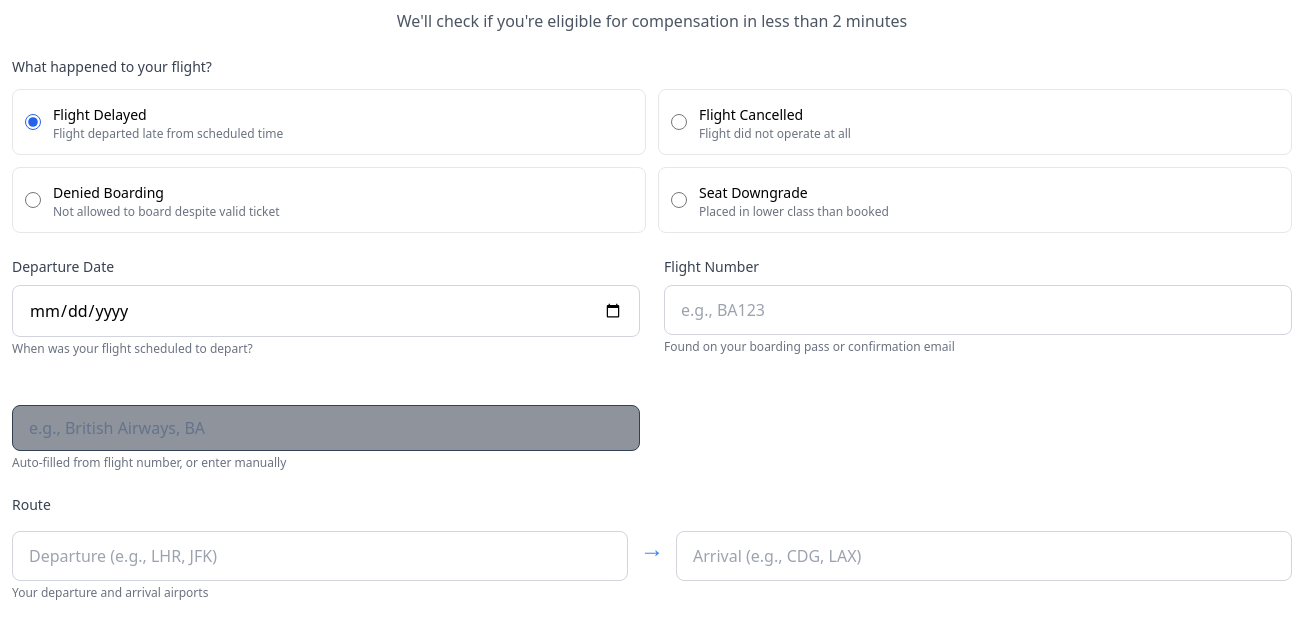
Test: FlightLookupForm - Ticket Price with Round-Trip › should show dollar sign prefix for ticket price
Step 1. Click the radio button labelled "Denied Boarding Not allowed to board despite valid ticket" → (33, 200), box [25,192,41,208]
(page scrolled)
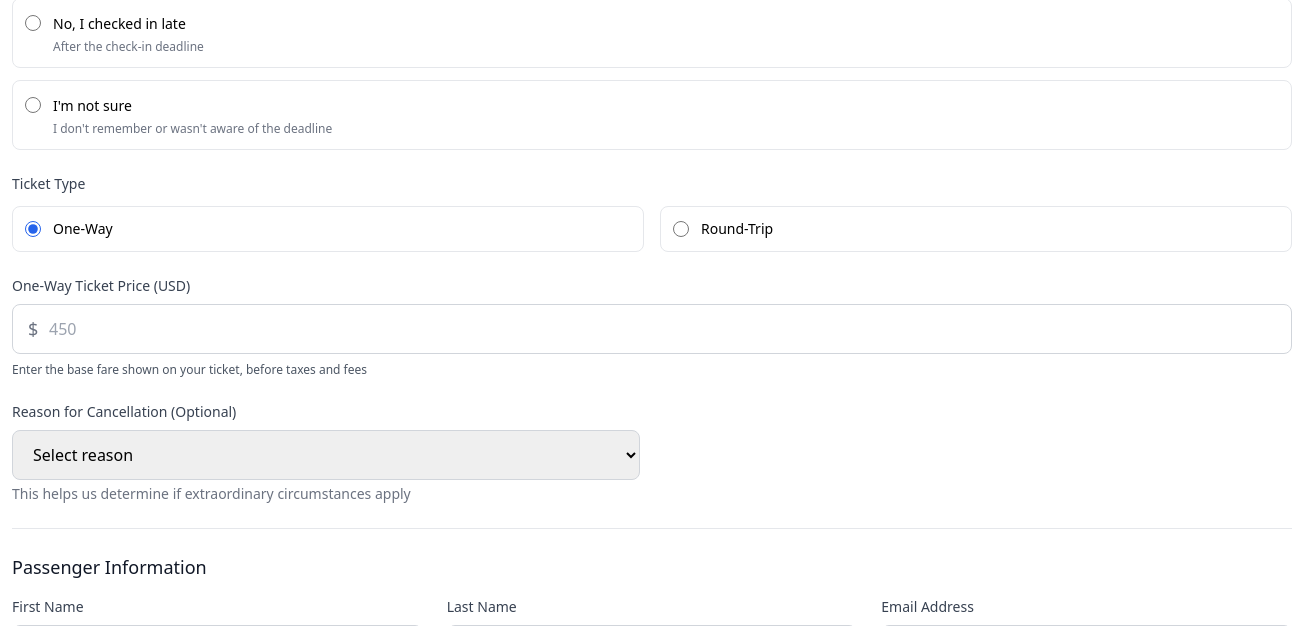
Result: the text "$" is shown at [28,315,38,343]
